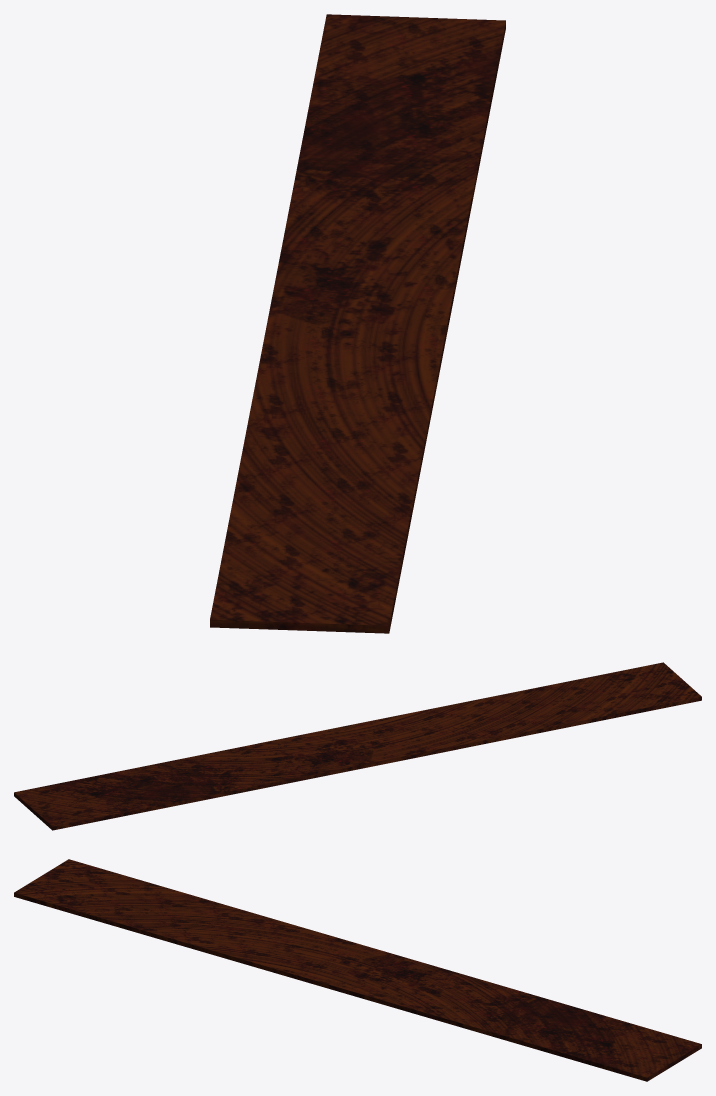
Rendered from SueloFinal.fbx.
The picture shows the model from 3 angles, top to bottom: view 1: azimuth 30°, elevation 25°; view 2: azimuth 150°, elevation 25°; view 3: azimuth 270°, elevation 25°; orthographic projection. The views are drawn at different scales.
Parts seen in each view (by area): view 1: lp_suelo19; view 2: lp_suelo19; view 3: lp_suelo19.
Part boxes in pixels (left/top/right/bottom): lp_suelo19: left=210, top=14, right=505, bottom=633; lp_suelo19: left=14, top=662, right=701, bottom=830; lp_suelo19: left=14, top=859, right=701, bottom=1081.
Size of the model in its own units: 4.16 by 0.0369 by 5.54.
